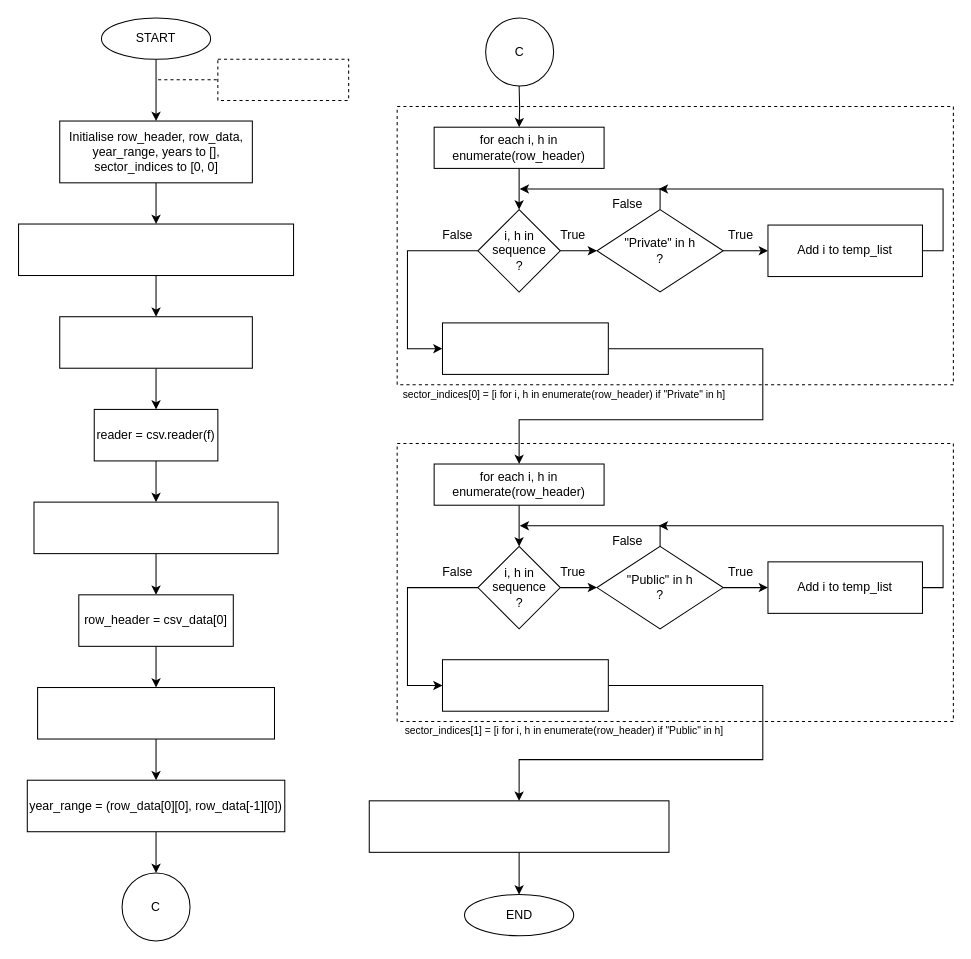
The diagram is 971 pixels wide and 959 high, and some of its shapes have lost their labels. Each missing label, with the box of its shape:
csv_data = np.array([row for row in reader]): (33, 501, 278, 554)
import csv import numpy as np: (217, 58, 349, 100)
Initialise reader, csv_data to []: (59, 316, 252, 368)
row_data = csv_data[1:].astype(int).tolist(): (37, 686, 274, 739)
sector_indices[0] = temp_list: (441, 322, 608, 374)
sector_indices[1] = temp_list: (441, 659, 608, 711)
with open("sgactivedentists_dataset.csv", "r") as f: (18, 223, 294, 276)
years = list(range(year_range[0], year_range[1] + 1)): (368, 800, 669, 852)
